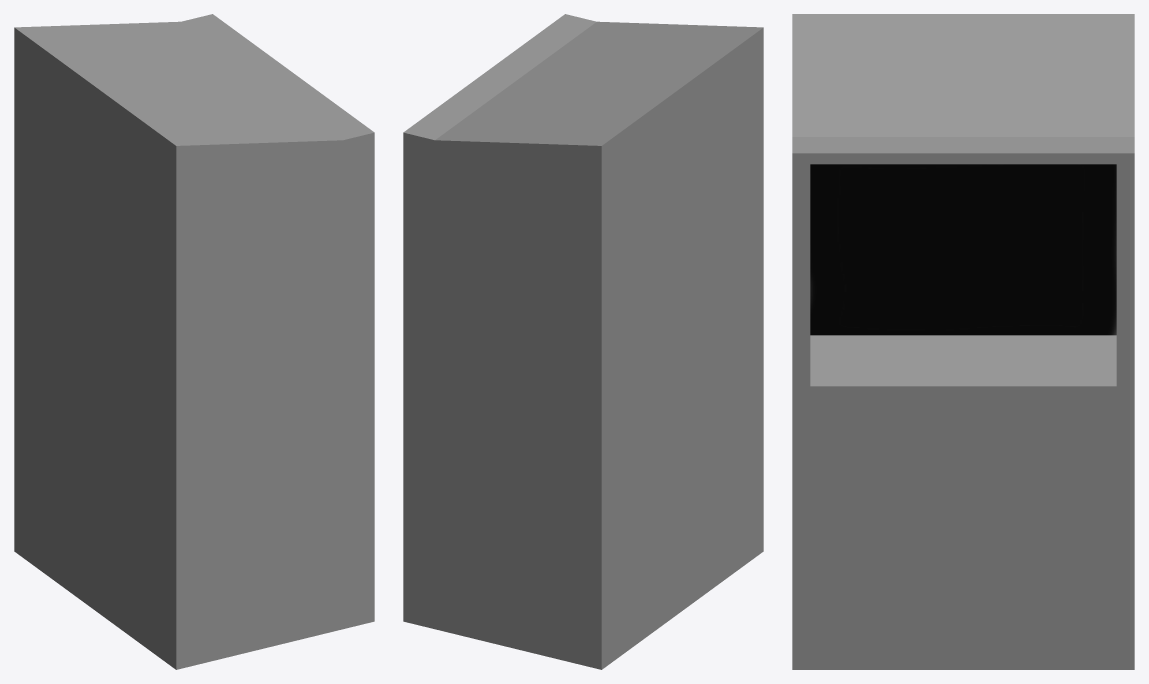
File: card_machine.fbx
3 views of the same model, side by side, from view 1: azimuth 30°, elevation 25°; view 2: azimuth 150°, elevation 25°; view 3: azimuth 270°, elevation 25° (orthographic). The views are drawn at different scales.
Visible parts, largest first — view 1: Object; view 2: Object; view 3: Object.
Part boxes in pixels (x1=…): Object: x1=14, y1=14, x2=374, y2=669; Object: x1=403, y1=14, x2=763, y2=669; Object: x1=792, y1=14, x2=1134, y2=669.
Size of the model in its own units: 475 by 1197 by 671.
Materials: 1 (1 with a texture image).
